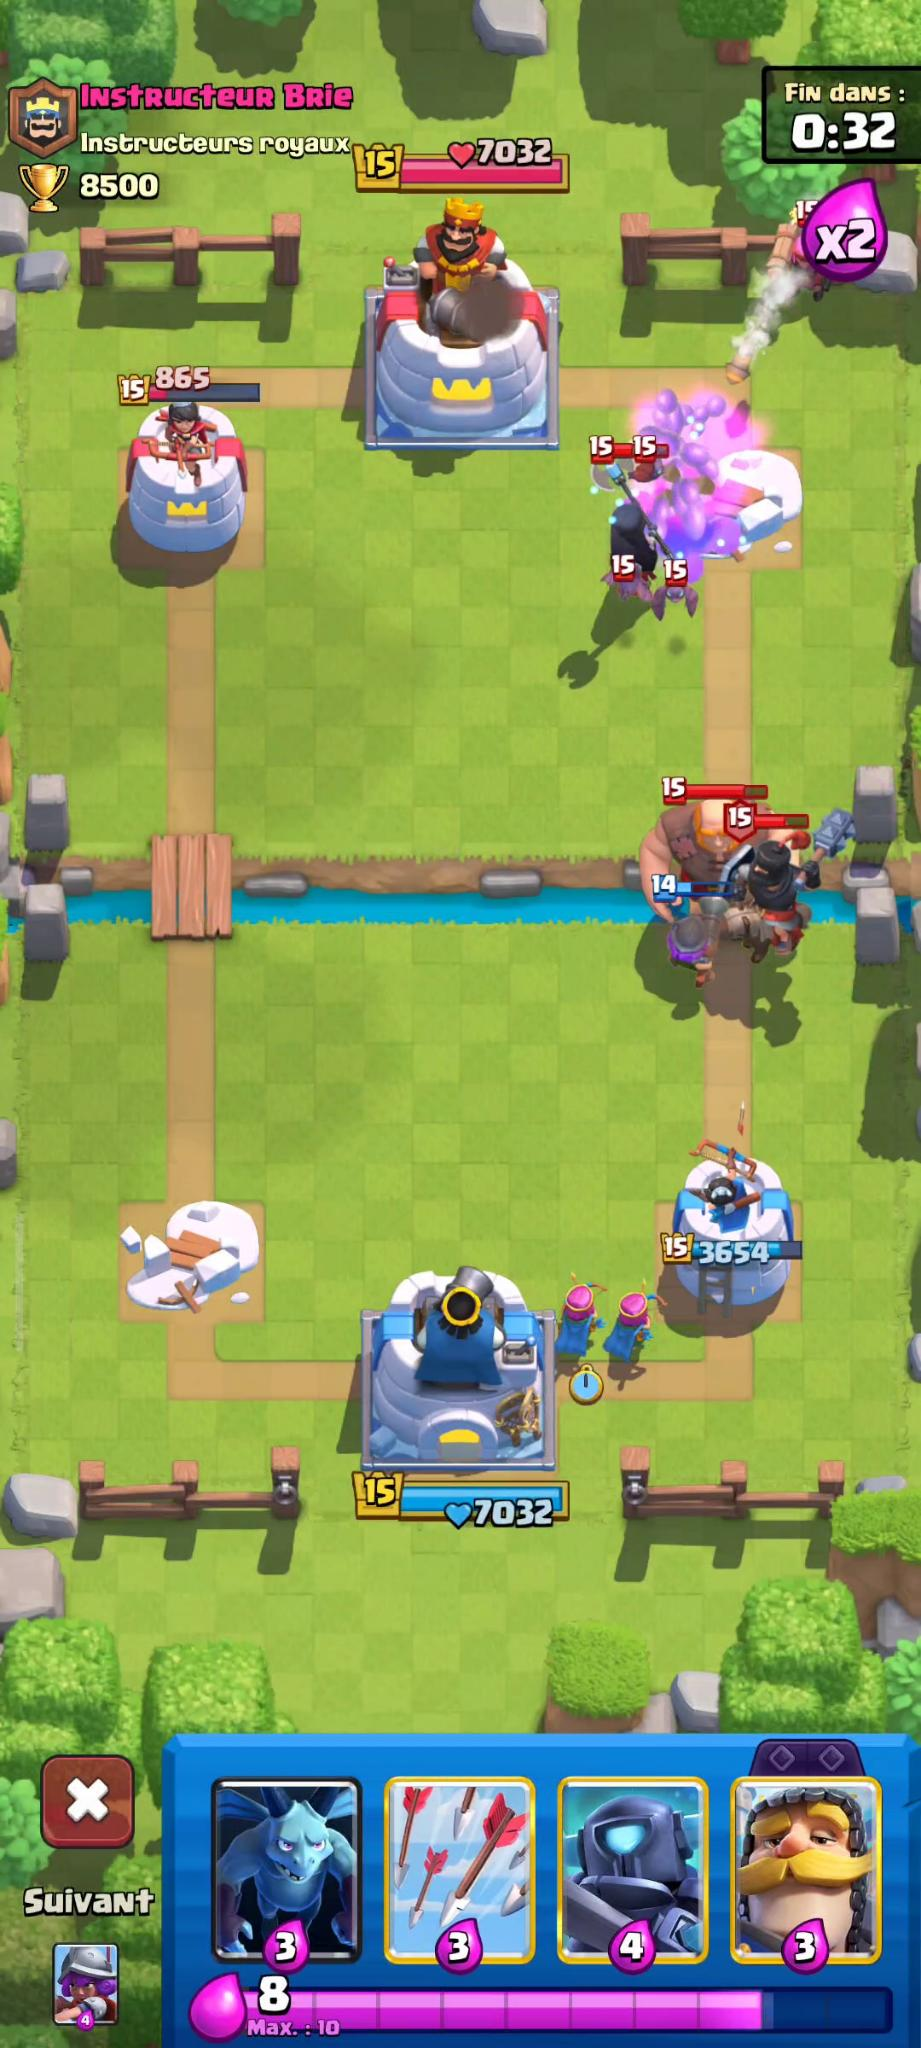archere: (543, 1275, 609, 1382)
bat: (651, 572, 705, 624), (624, 443, 681, 487), (605, 554, 652, 605)
geant: (617, 763, 783, 953)
mousquetaire: (645, 882, 742, 1007)
